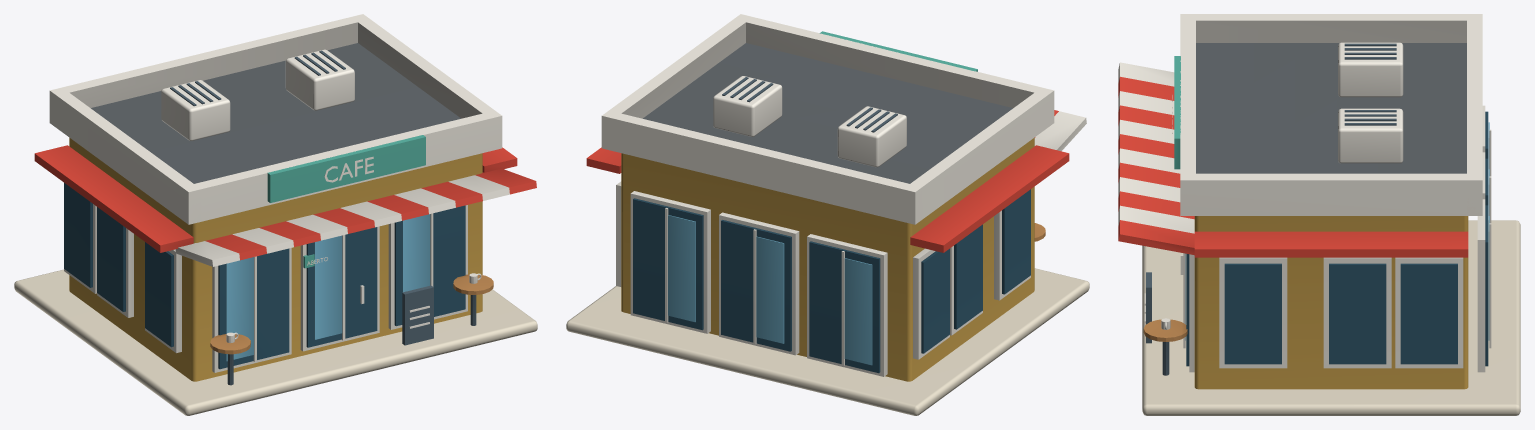
The model's file is corner-cafe.glb.
The picture shows the model from 3 angles, left to right: view 1: azimuth 30°, elevation 25°; view 2: azimuth 150°, elevation 25°; view 3: azimuth 270°, elevation 25°; orthographic projection. The views are drawn at different scales.
Parts seen in each view (by area): view 1: roof parapet, inset roof, blue glazing, shop walls, cafe lot, side canopy, reflection, sign board, grille, terrace table; view 2: roof parapet, blue glazing, shop walls, inset roof, cafe lot, reflection, side canopy, grille, sign board; view 3: roof parapet, inset roof, cafe lot, blue glazing, shop walls, side canopy, grille, sign board, terrace table, reflection.
Boxes of the visible parts, bbox=[...] form: roof parapet: bbox=[49, 14, 509, 372]; inset roof: bbox=[91, 43, 460, 183]; blue glazing: bbox=[64, 183, 465, 369]; shop walls: bbox=[69, 137, 482, 381]; cafe lot: bbox=[14, 269, 537, 415]; side canopy: bbox=[34, 145, 536, 260]; reflection: bbox=[226, 214, 430, 361]; sign board: bbox=[267, 135, 425, 268]; grille: bbox=[170, 50, 476, 385]; terrace table: bbox=[210, 274, 493, 354]; roof parapet: bbox=[601, 14, 1086, 376]; blue glazing: bbox=[633, 189, 1030, 373]; shop walls: bbox=[621, 137, 1034, 381]; inset roof: bbox=[643, 43, 1012, 183]; cafe lot: bbox=[566, 268, 1089, 415]; reflection: bbox=[668, 215, 872, 365]; side canopy: bbox=[586, 110, 1069, 252]; grille: bbox=[722, 77, 897, 132]; sign board: bbox=[819, 31, 977, 71]; roof parapet: bbox=[1118, 14, 1491, 372]; inset roof: bbox=[1196, 43, 1466, 173]; cafe lot: bbox=[1142, 220, 1520, 415]; blue glazing: bbox=[1186, 111, 1488, 366]; shop walls: bbox=[1194, 216, 1468, 389]; side canopy: bbox=[1118, 76, 1468, 257]; grille: bbox=[1146, 43, 1396, 375]; sign board: bbox=[1174, 56, 1180, 169]; terrace table: bbox=[1143, 319, 1187, 341]; reflection: bbox=[1185, 122, 1489, 340].
Bounding box in the file's own units: 3.44 × 2.03 × 3.08.
